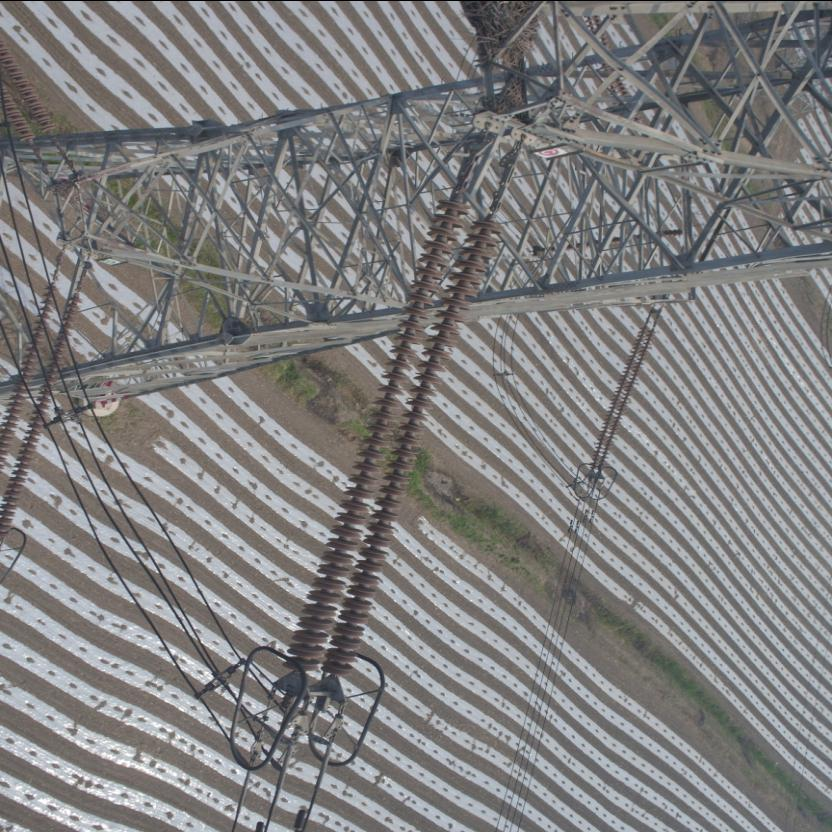insulator: (281, 172, 513, 684), (587, 315, 659, 474)
